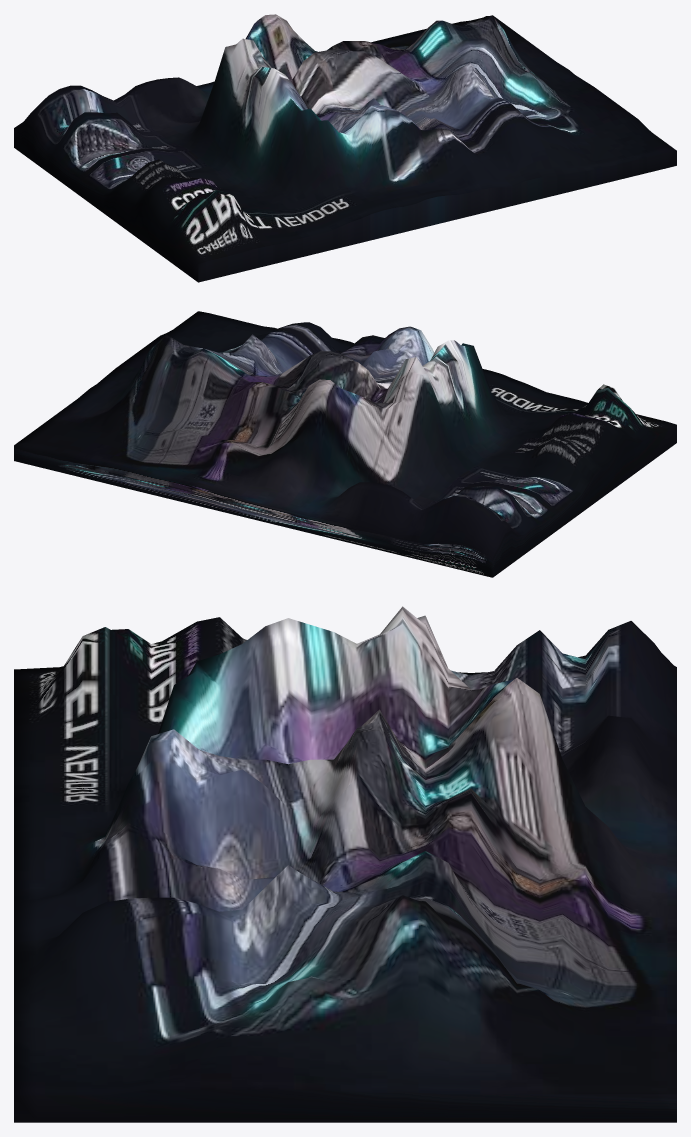
The model's file is CAREER_01_Tool_06_Cooler.glb.
The picture shows the model from 3 angles, top to bottom: view 1: azimuth 30°, elevation 25°; view 2: azimuth 150°, elevation 25°; view 3: azimuth 270°, elevation 25°; orthographic projection. The views are drawn at different scales.
Parts seen in each view (by area): view 1: CAREER_01_Tool_06_Cooler; view 2: CAREER_01_Tool_06_Cooler; view 3: CAREER_01_Tool_06_Cooler.
Boxes of the visible parts, x1,y1,x2,y2 form: CAREER_01_Tool_06_Cooler: [14, 14, 676, 282]; CAREER_01_Tool_06_Cooler: [14, 311, 676, 577]; CAREER_01_Tool_06_Cooler: [14, 606, 676, 1122].
Bounding box in the file's own units: 2 × 0.51 × 1.33.
Materials: 1 (1 with a texture image).
